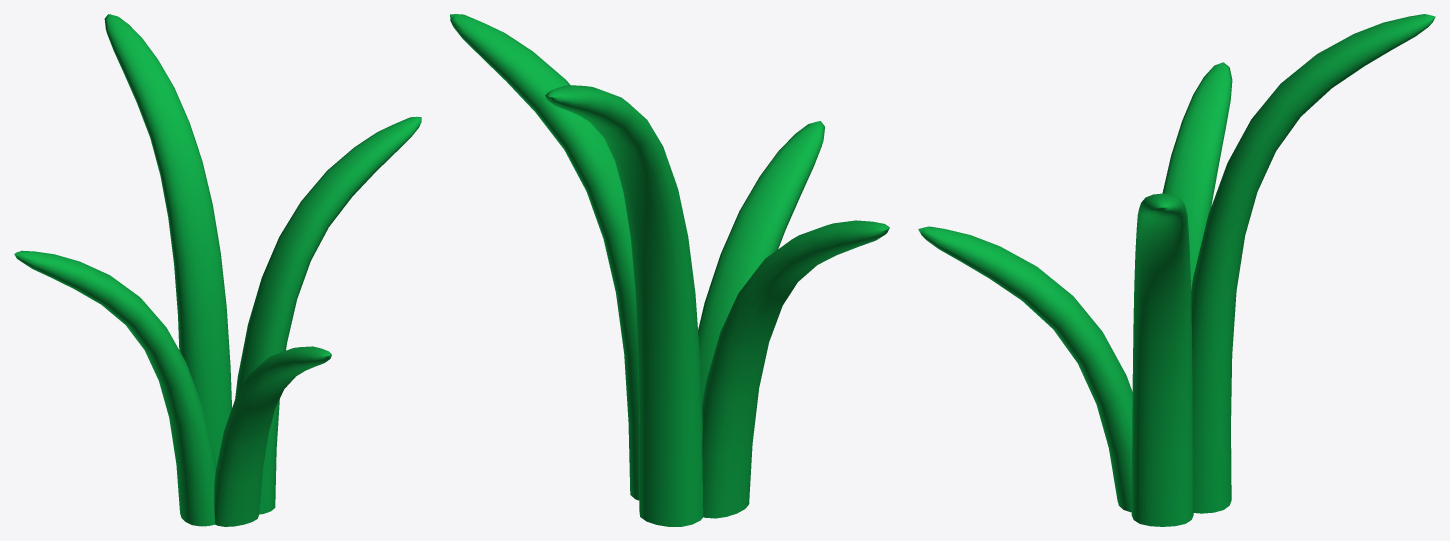
The model's file is Town_14_Grass_3.glb.
The picture shows the model from 3 angles, left to right: view 1: azimuth 30°, elevation 25°; view 2: azimuth 150°, elevation 25°; view 3: azimuth 270°, elevation 25°; orthographic projection. The views are drawn at different scales.
Visible parts, largest first — view 1: Town_14_Grass_3; view 2: Town_14_Grass_3; view 3: Town_14_Grass_3.
Part boxes in pixels (x1=…): Town_14_Grass_3: x1=14, y1=14, x2=421, y2=526; Town_14_Grass_3: x1=450, y1=14, x2=889, y2=526; Town_14_Grass_3: x1=918, y1=14, x2=1435, y2=526.
Bounding box in the file's own units: 0.4637 × 0.4794 × 0.4632.
1 material, 1 textured.
